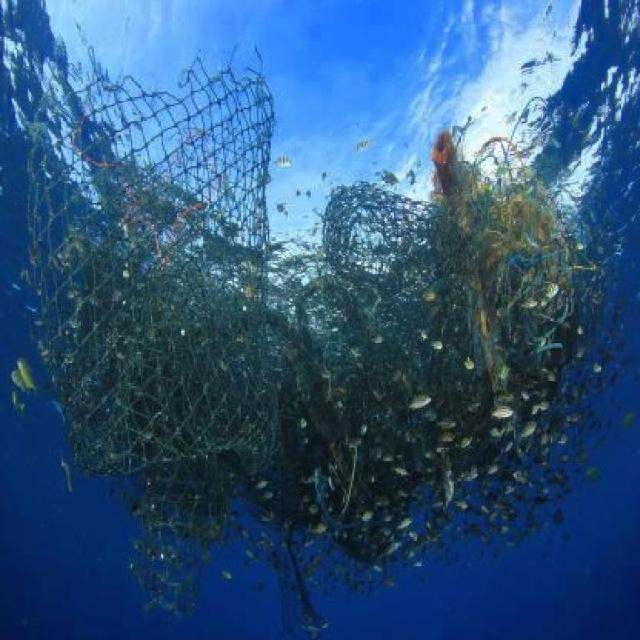net: (31, 78, 582, 522)
